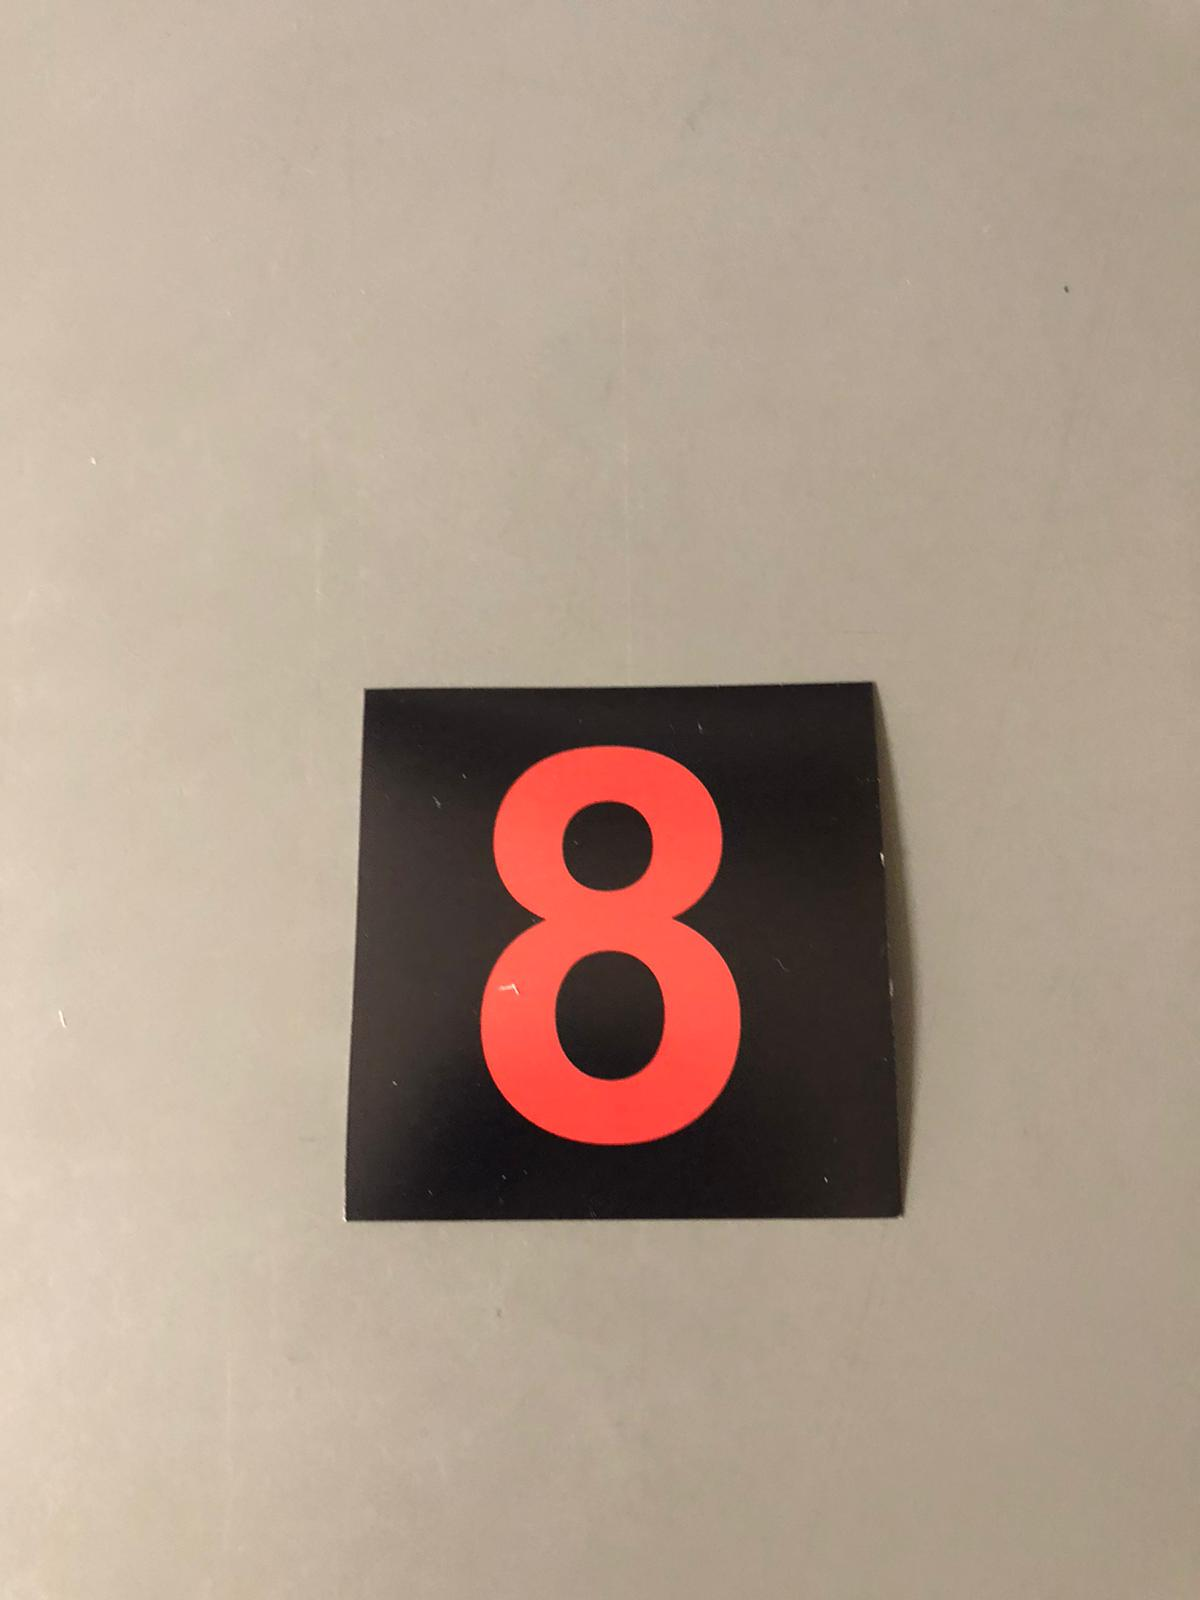Number 8: (372, 698, 879, 1201)
